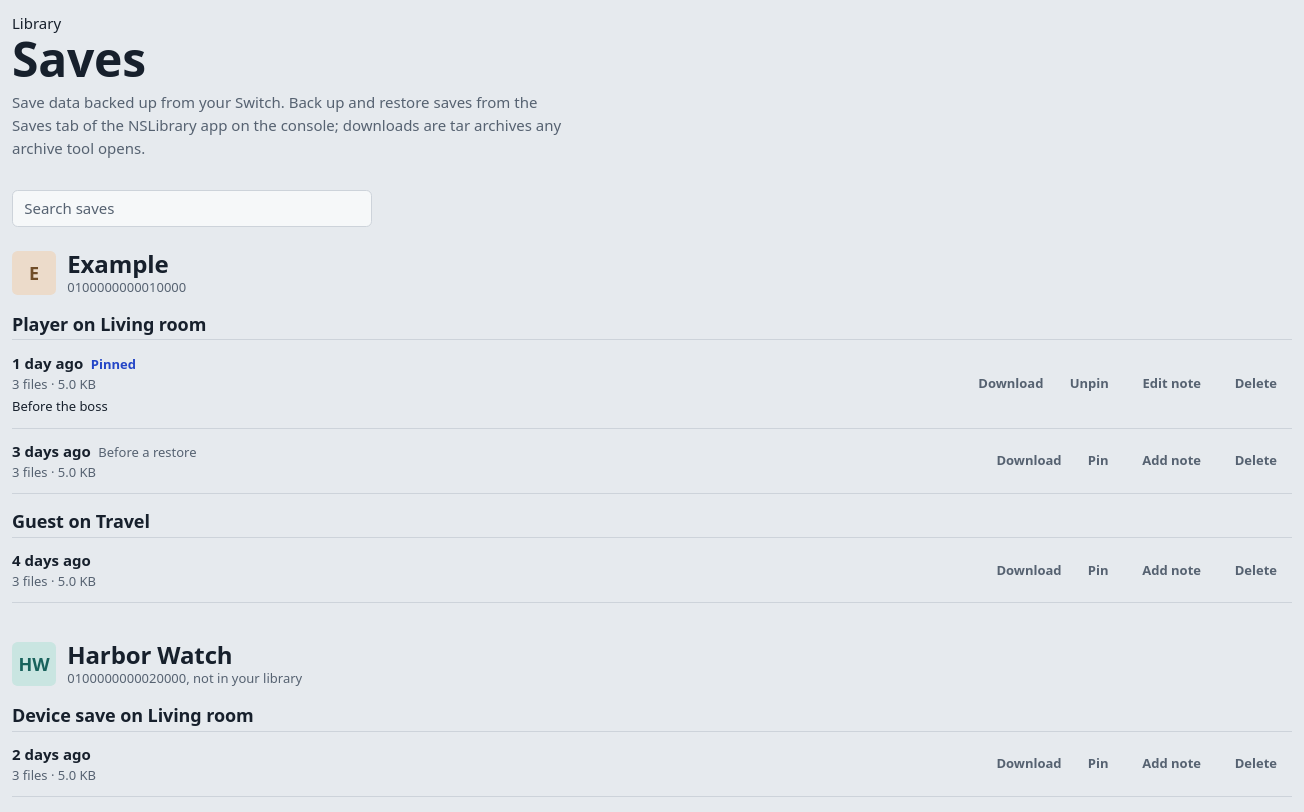
Scenario: SavesPage › adds a note
The width and height of the screenshot is (1304, 812).
Click the button with aria-label "Add a note to the Example": (1172, 461) [1127,444,1216,478]
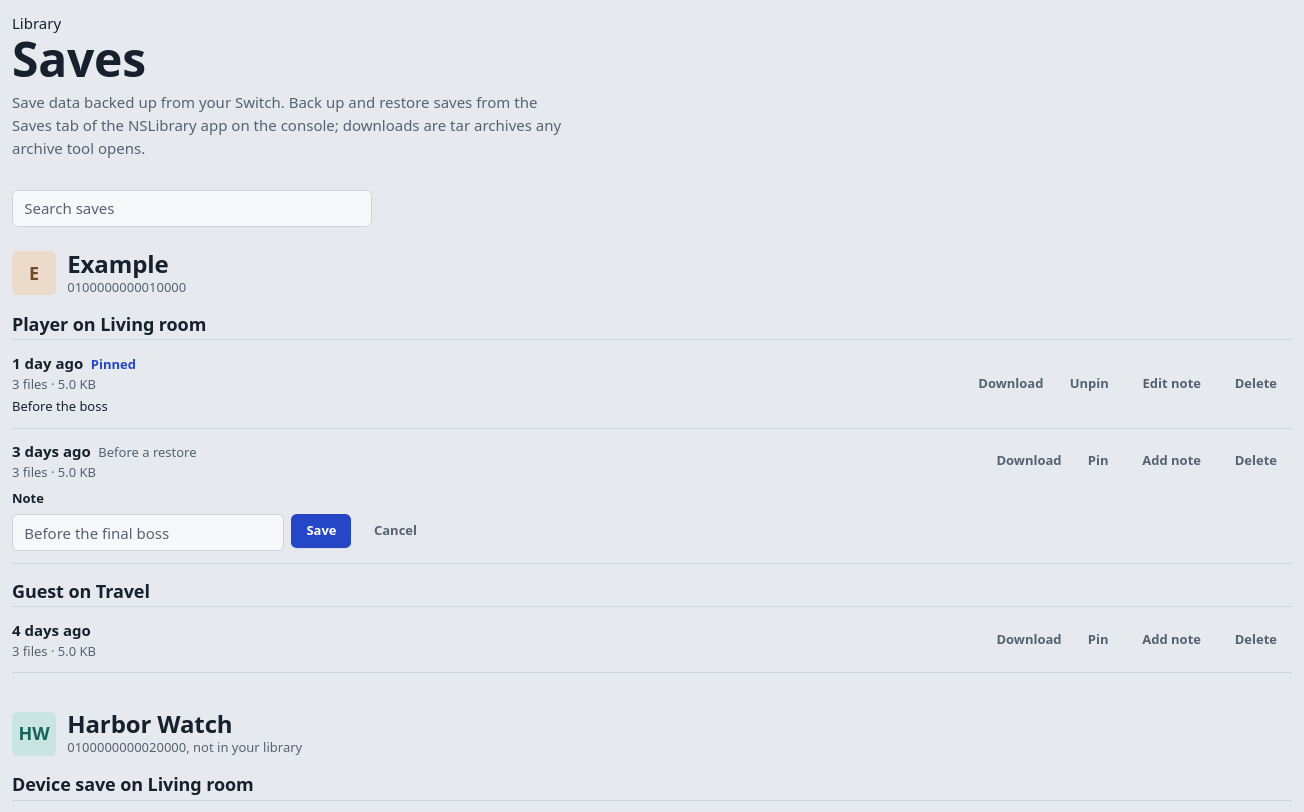
In the field labelled "Note": (148, 533) [12,514,284,551], type "  Chapter 4 "
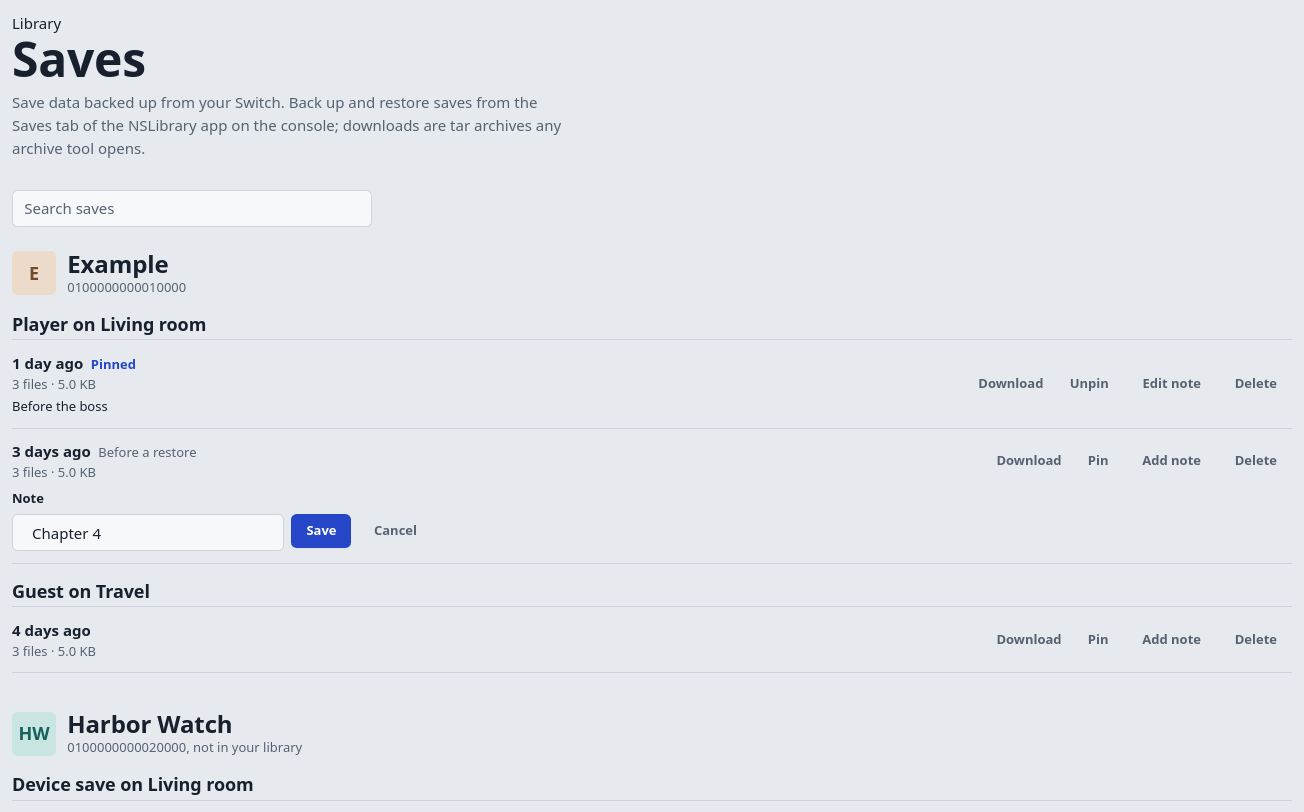
Click the button "Save": (321, 531) [291,514,352,548]
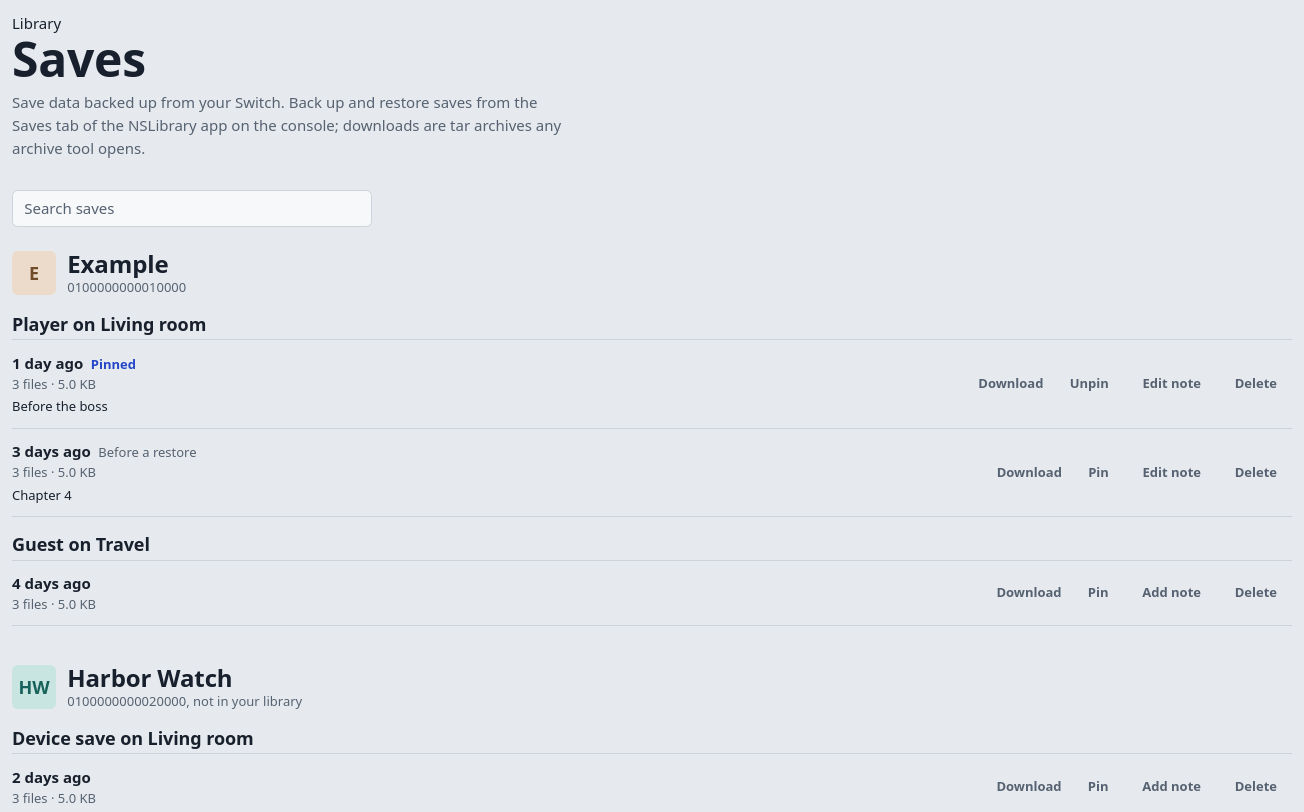
Expected: the text "Chapter 4" is shown, [12,486,72,504]
